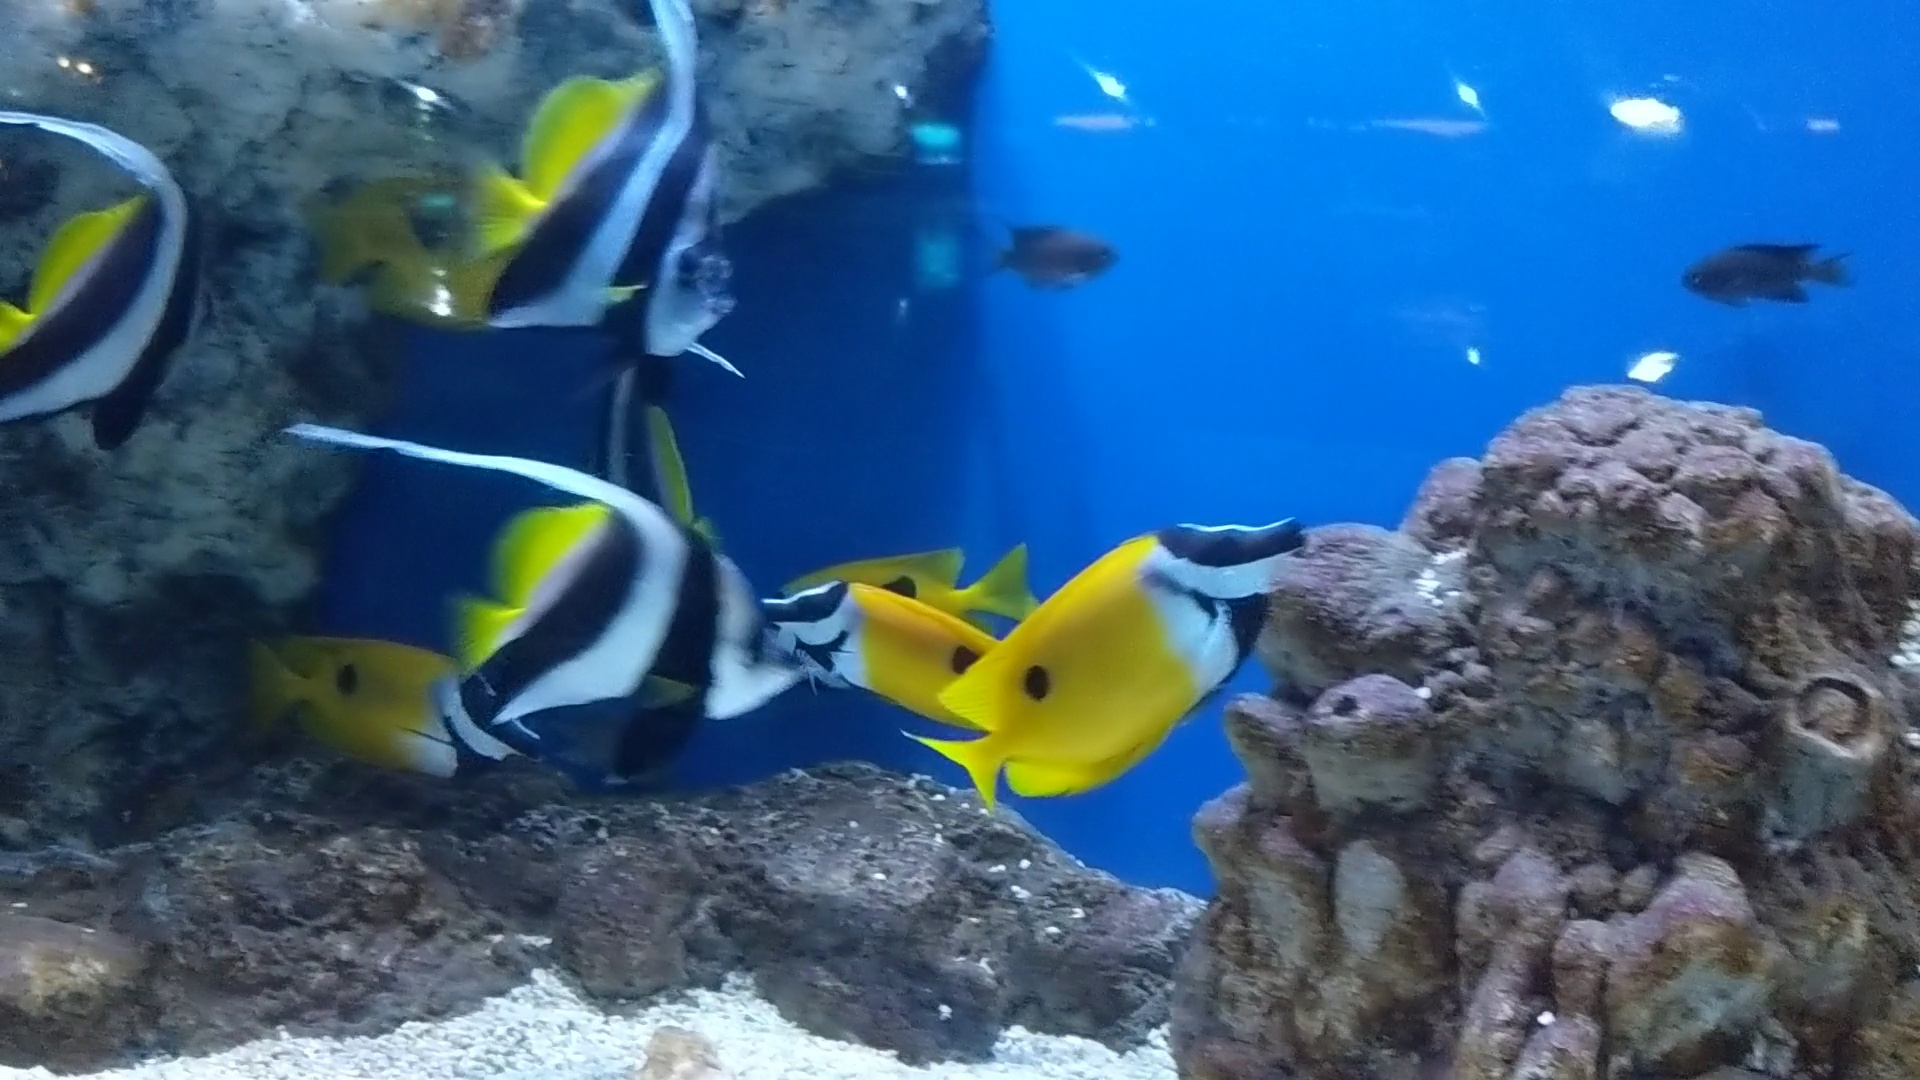moorfish: (282, 394, 812, 758), (313, 0, 746, 359), (3, 76, 216, 483)
rabbitfish: (920, 510, 1296, 816), (227, 630, 537, 789), (750, 580, 986, 746)
